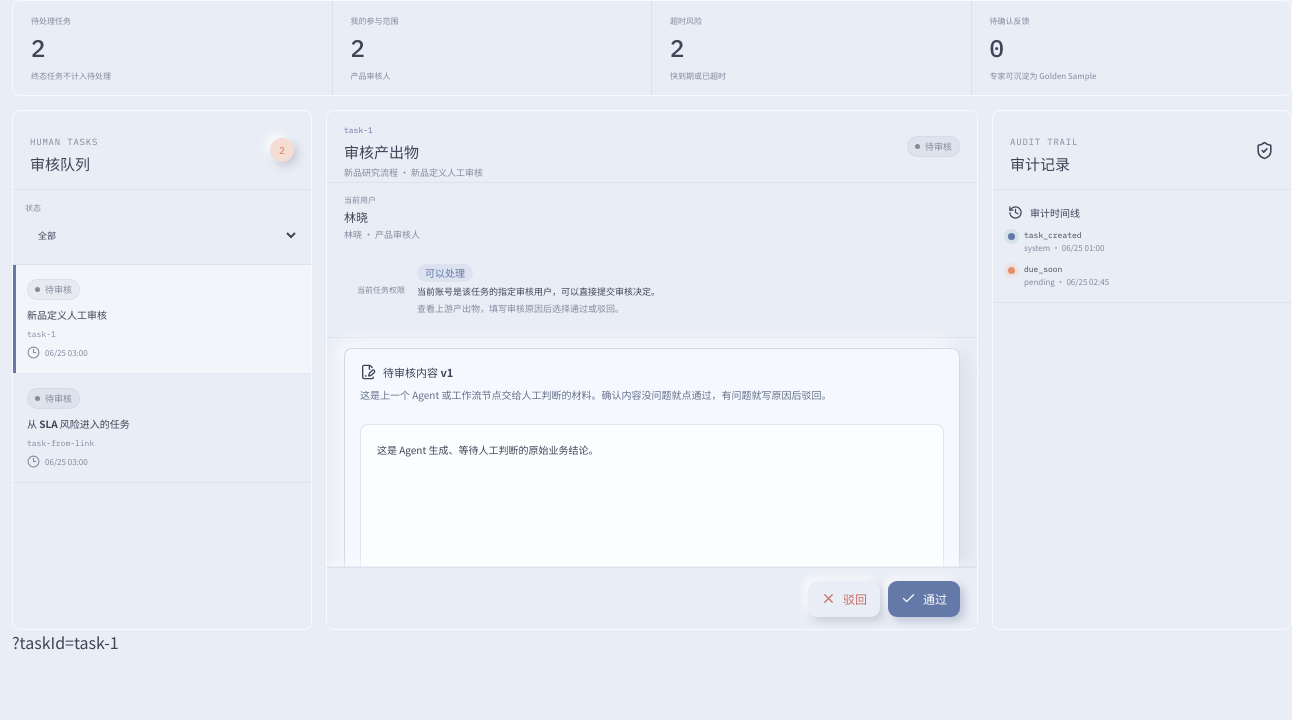
Scenario: Reviews › shows review workload metrics and filtered empty guidance
Check: the text "待处理任务" is shown, box top-left (31, 15), bottom-right (71, 26)
Check: the text "超时风险" is shown, box top-left (670, 15), bottom-right (702, 26)
Select "已通过" in the dropdown named "任务状态筛选". click: (162, 235)
box: top-left (25, 218), bottom-right (299, 252)
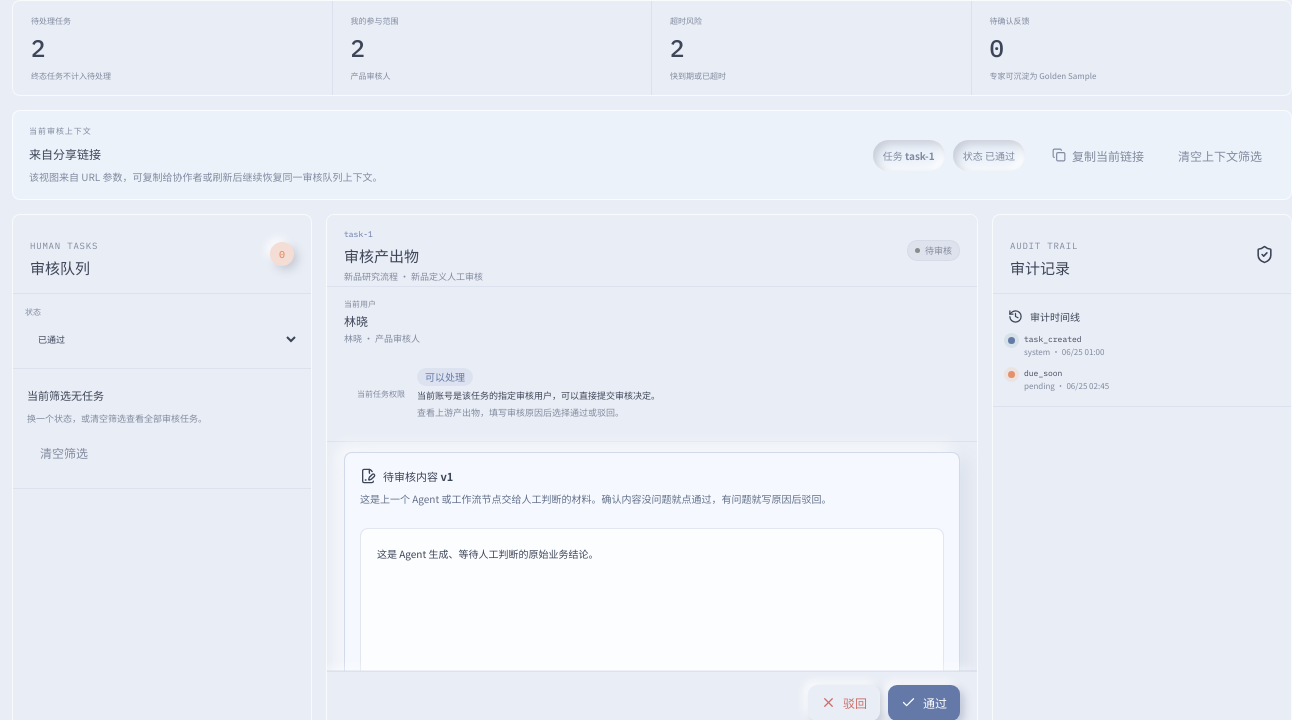
Check: the text "当前筛选无任务" is shown, box top-left (27, 387), bottom-right (104, 403)
Click the button "清空筛选". click: (64, 452)
box: top-left (27, 434), bottom-right (101, 470)
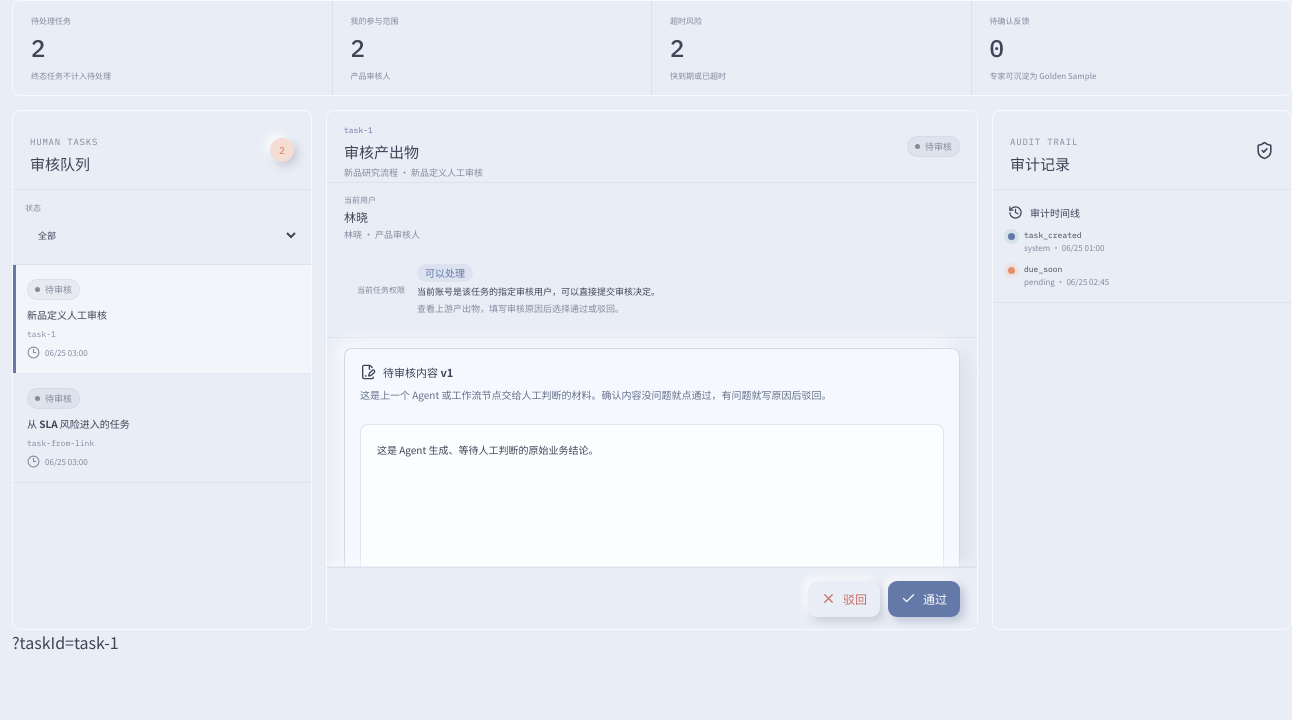
Check: the text "新品定义人工审核" is shown, box top-left (27, 307), bottom-right (107, 322)
